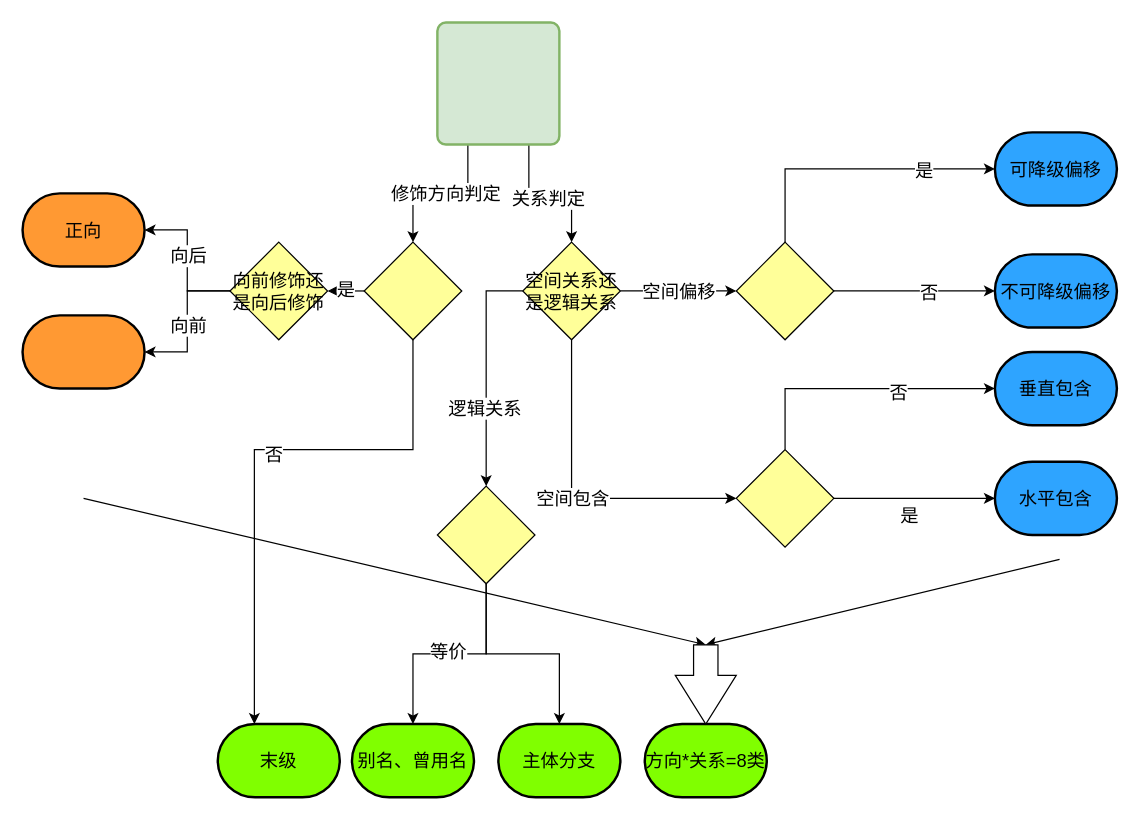
This 1138x819 diagram has some shape labels left out. The shapes that lost their labels are listed below. From the top down, each one's box as (x1, y1, x2, y2) in pixels, then its label:
(436, 21, 560, 145): 开始判定
(363, 241, 462, 340): 是否修饰其他实体
(735, 241, 834, 340): 是否可降级 （判定规则见解释）
(21, 314, 145, 389): 反向
(735, 448, 834, 547): 修饰侧是否是多个建筑物组成的一个区域
(436, 485, 535, 584): 属于分支还是等价
